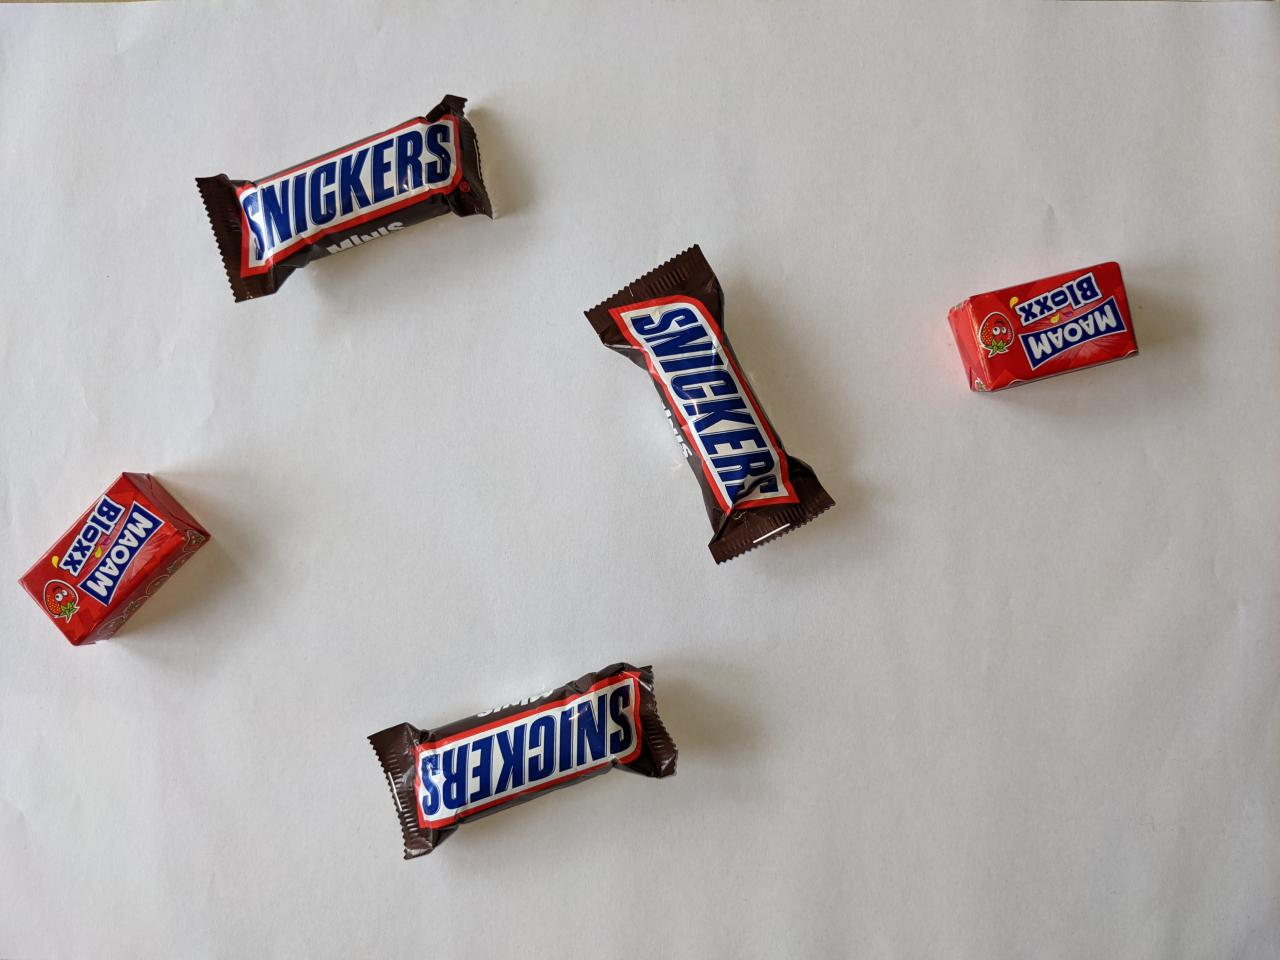MAOAM: (12, 464, 219, 653), (941, 253, 1146, 401)
Snickers: (578, 239, 840, 570), (362, 652, 689, 867), (190, 87, 504, 308)
